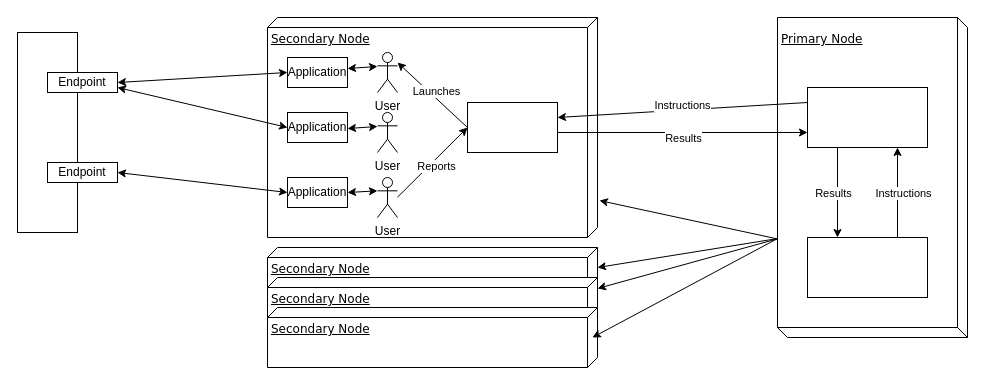
The diagram is 985 pixels wide and 385 high, and some of its shapes have lost their labels. Here are the shapes that lost their labels. From the top down, the centre of each, then its label:
point 47,132: Blockchain
point 512,127: Generator
point 867,117: Coordinator
point 867,267: Benchmark
